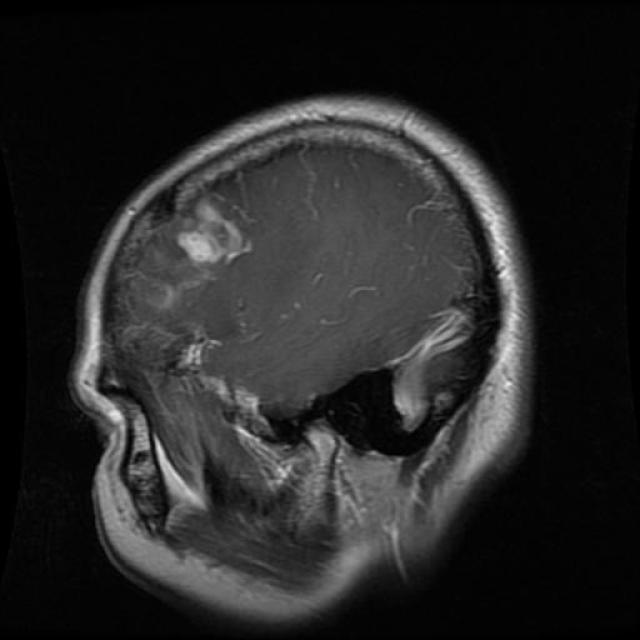brain_tumor: (178, 199, 251, 263)
